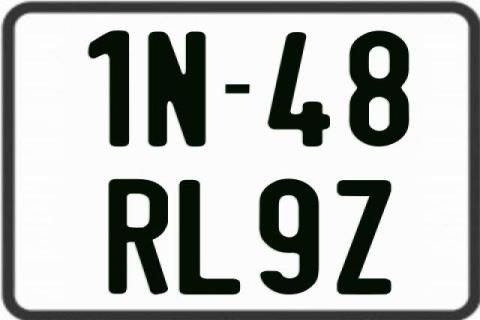0: (347, 28, 413, 149), (256, 178, 321, 296), (269, 31, 334, 145), (88, 28, 131, 146)
L: (176, 178, 238, 298)
N: (148, 30, 210, 148)
R: (109, 177, 173, 297)
Z: (336, 180, 391, 297)
